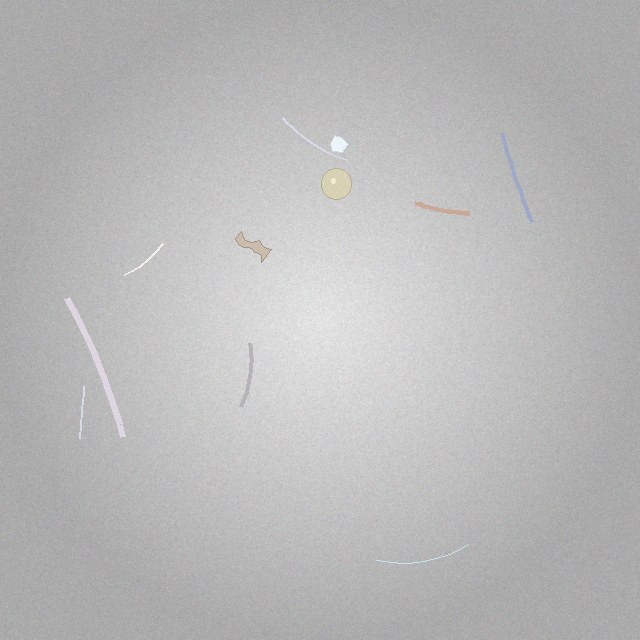fiber: (60, 292, 129, 443), (497, 128, 535, 226), (280, 115, 349, 162), (374, 542, 471, 565), (122, 241, 165, 278), (236, 339, 256, 412), (411, 198, 475, 218), (77, 384, 86, 440)
film: (236, 231, 272, 262)
fragment: (331, 135, 349, 153)
pellet: (321, 169, 352, 199)
